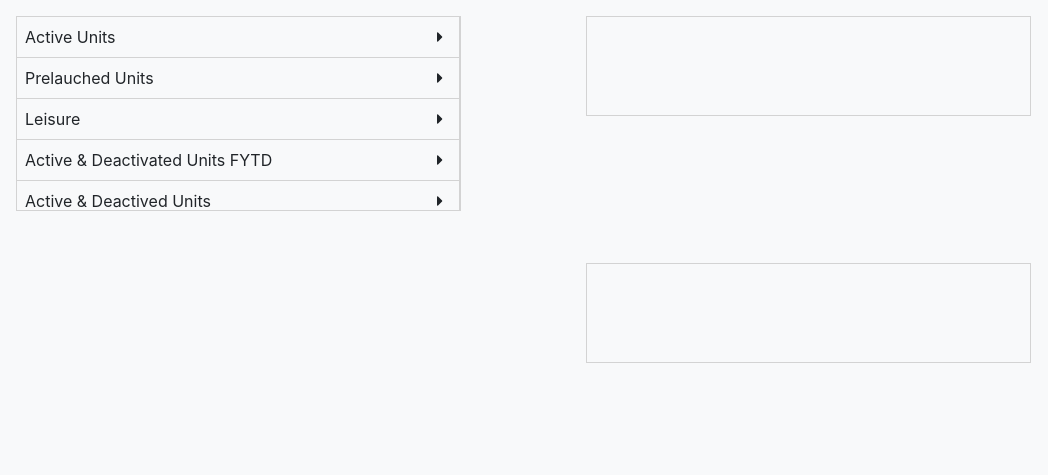
Test: <App /> mount rendering › Check SelectGroup list renders on SelectGroup item click
What coordinates should you click on to do the following:
click the element with id "ActiveUnits"
I would click on:
 (238, 38)
Its box is [17,17,460,58].
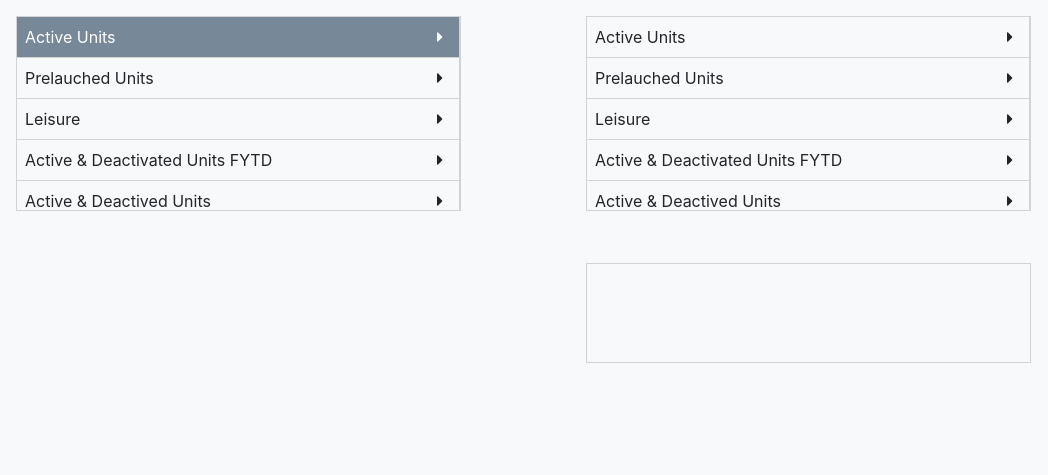
Check: the element showing "Active Units" is shown
Check: the element showing "Prelauched Units" is shown, box [587,58,1030,99]
Check: the element showing "Leisure" is shown, box [587,99,1030,140]
What coordinates should you click on to do the following:
click the element with id "ActiveUnits"
I would click on:
 (808, 38)
Its box is [587,17,1030,58].
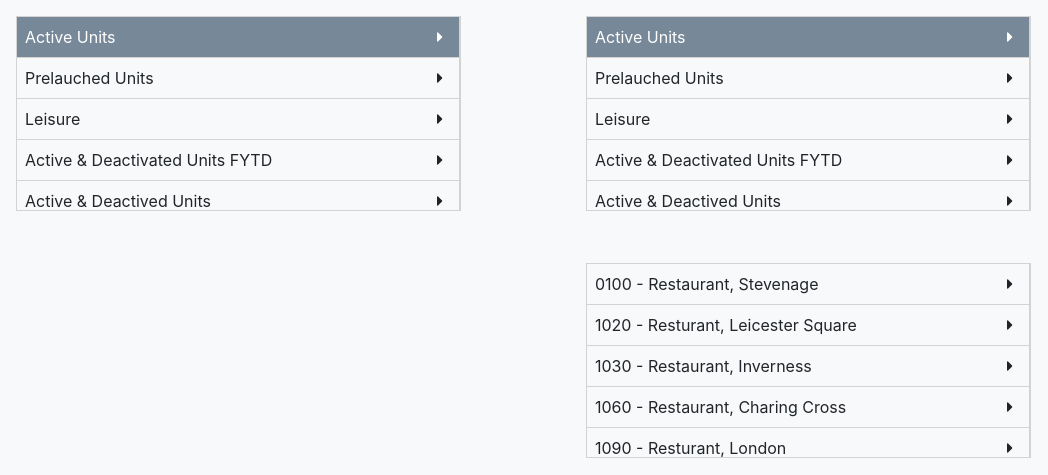
Check: the element showing "0100 - Restaurant, Stevenage" is shown, box [587,264,1030,305]
Check: the element showing "1020 - Resturant, Leicester Square" is shown, box [587,305,1030,346]
Check: the element showing "1030 - Restaurant, Inverness" is shown, box [587,346,1030,387]
